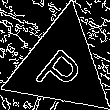P_NE: (32, 35, 90, 98)
